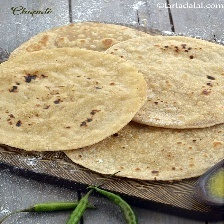roti: (0, 21, 224, 181)
